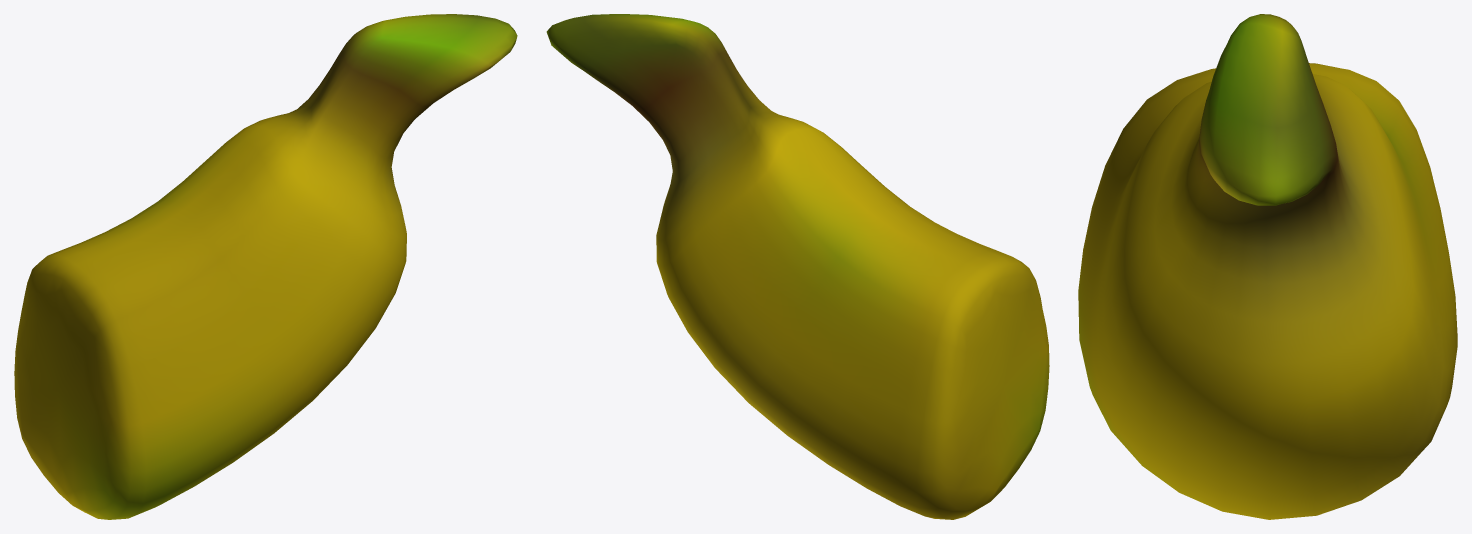
File: banana_top.fbx
3 renders of one model, left to right at view 1: azimuth 30°, elevation 25°; view 2: azimuth 150°, elevation 25°; view 3: azimuth 270°, elevation 25°, orthographic. The views are drawn at different scales.
Visible parts, largest first — view 1: Cube; view 2: Cube; view 3: Cube.
Boxes of the visible parts, x1,y1,x2,y2 form: Cube: (14, 14, 517, 519); Cube: (546, 14, 1049, 519); Cube: (1078, 14, 1457, 519).
Bounding box in the file's own units: 584 × 509 × 259.
